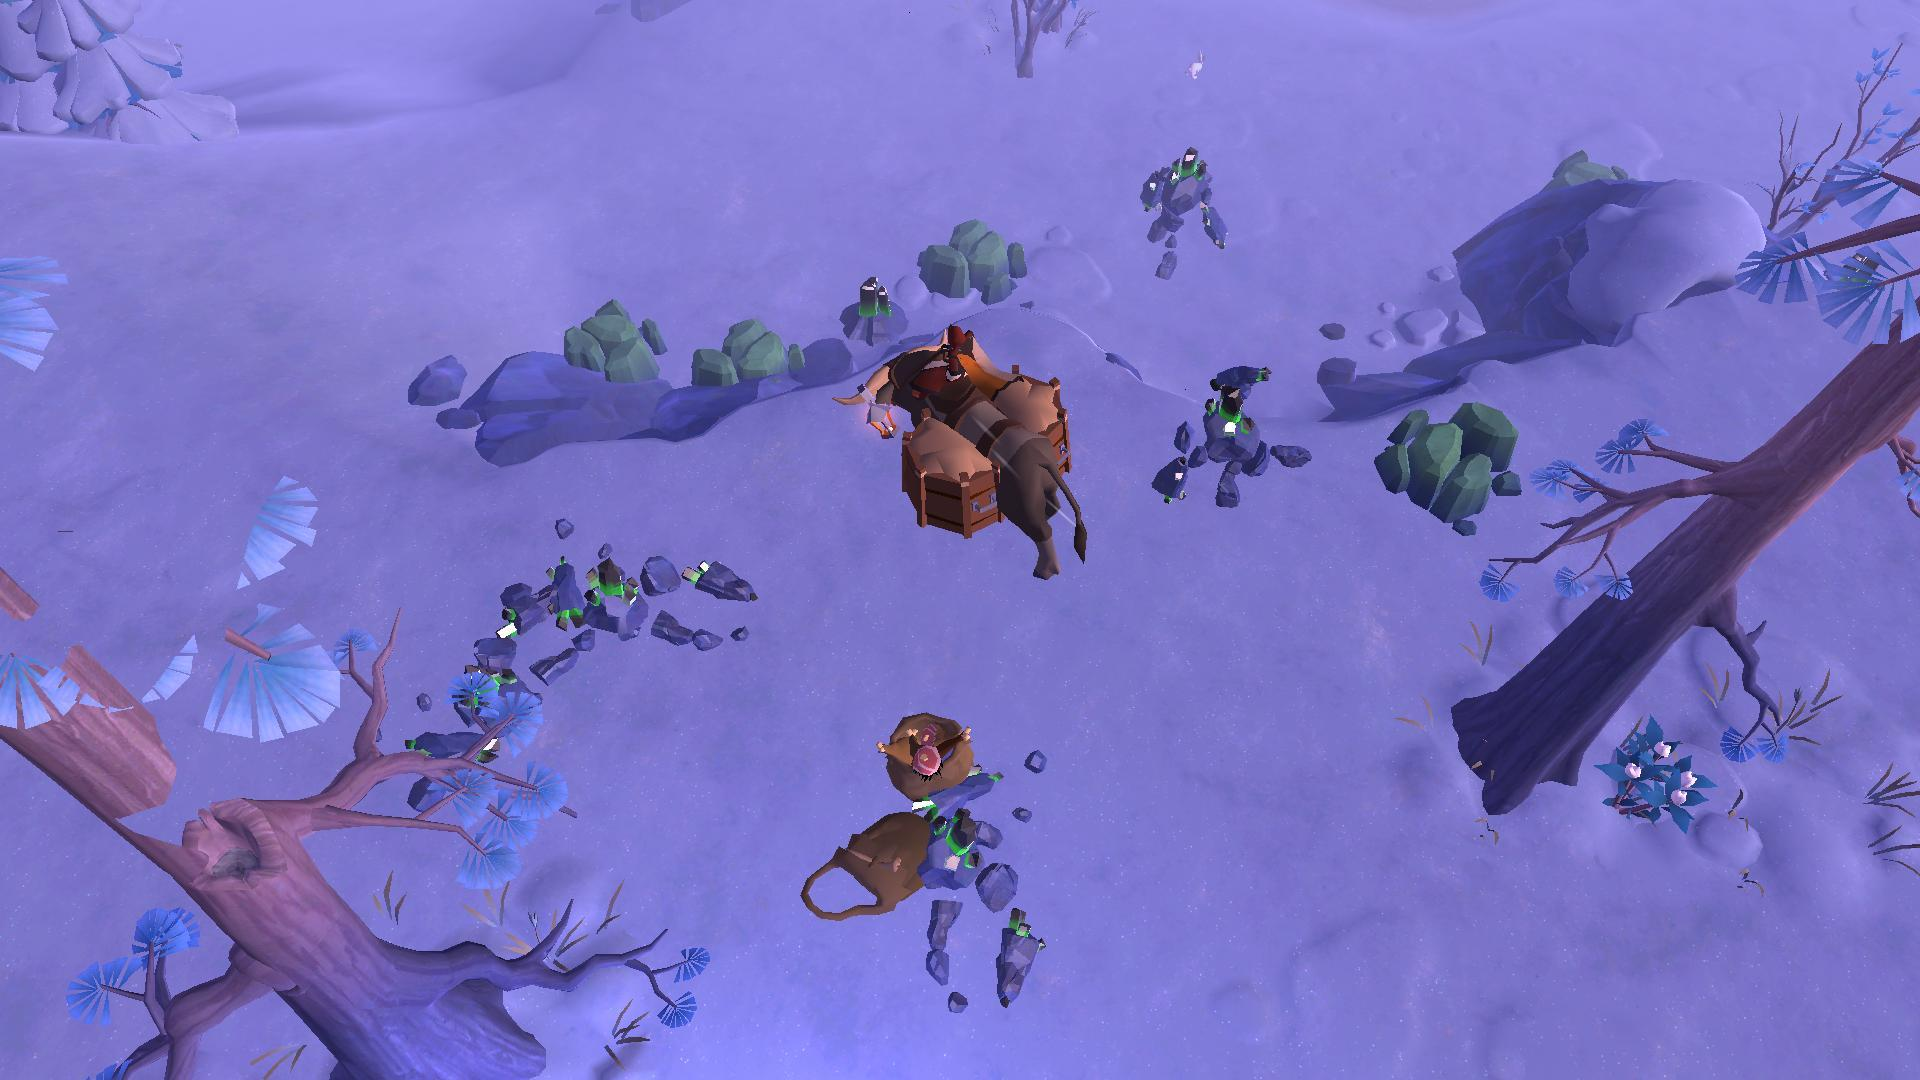fiber_t4: (1602, 725, 1710, 824)
ore_t3: (852, 272, 890, 323)
rock_t3: (1371, 389, 1526, 529), (911, 208, 1033, 301), (687, 314, 808, 396), (563, 297, 662, 388), (1535, 141, 1626, 200)
